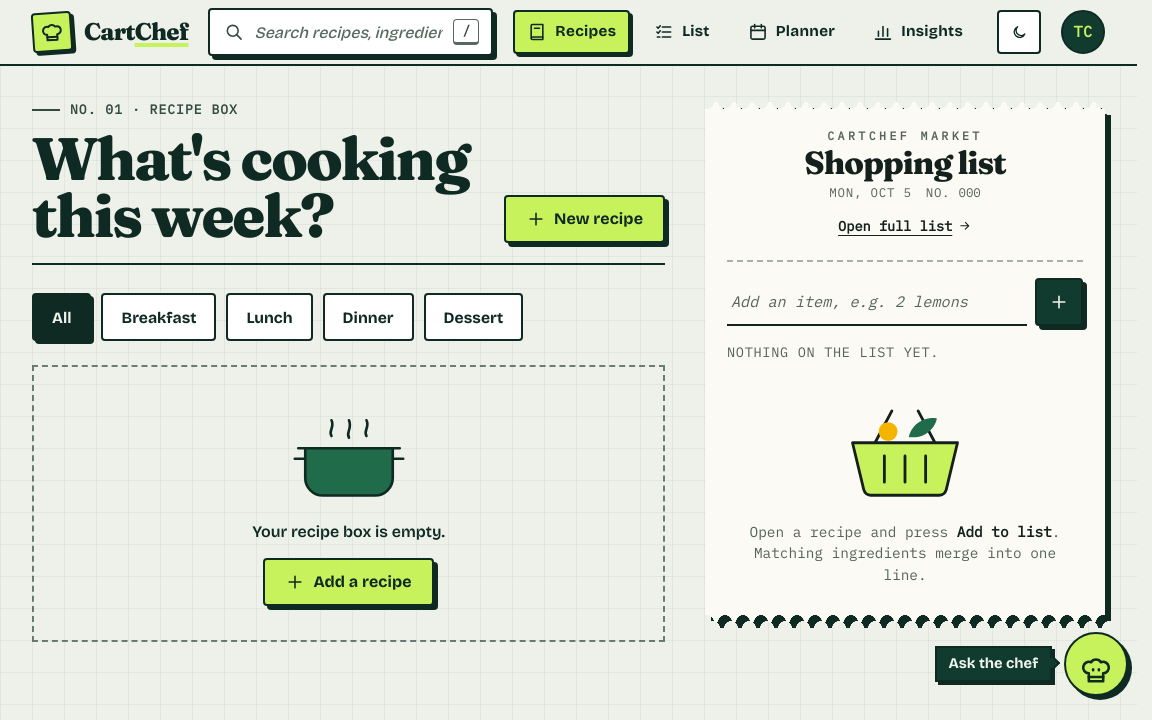
Scenario: signed-in session › deleting the account asks for the password and confirms
Click the button with aria-label "Account menu". click: [1083, 32]
box: [1061,10,1105,54]
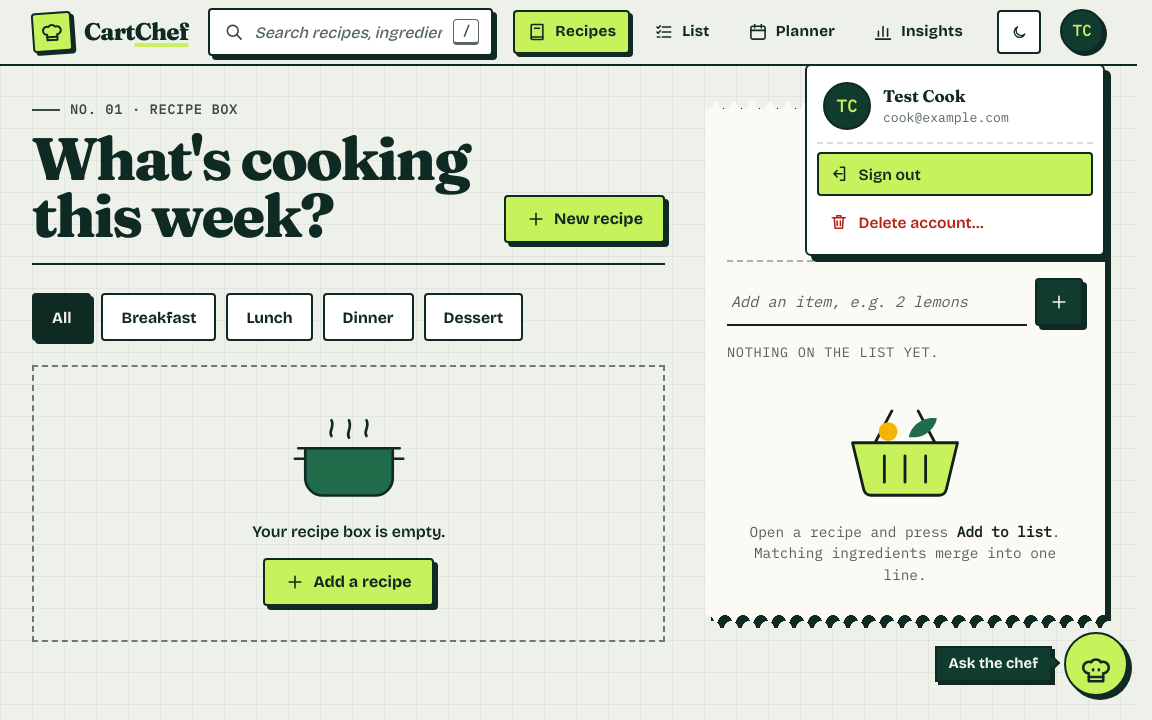
Click the menu item "Delete account…". click: [955, 222]
box: [817,200,1093,244]
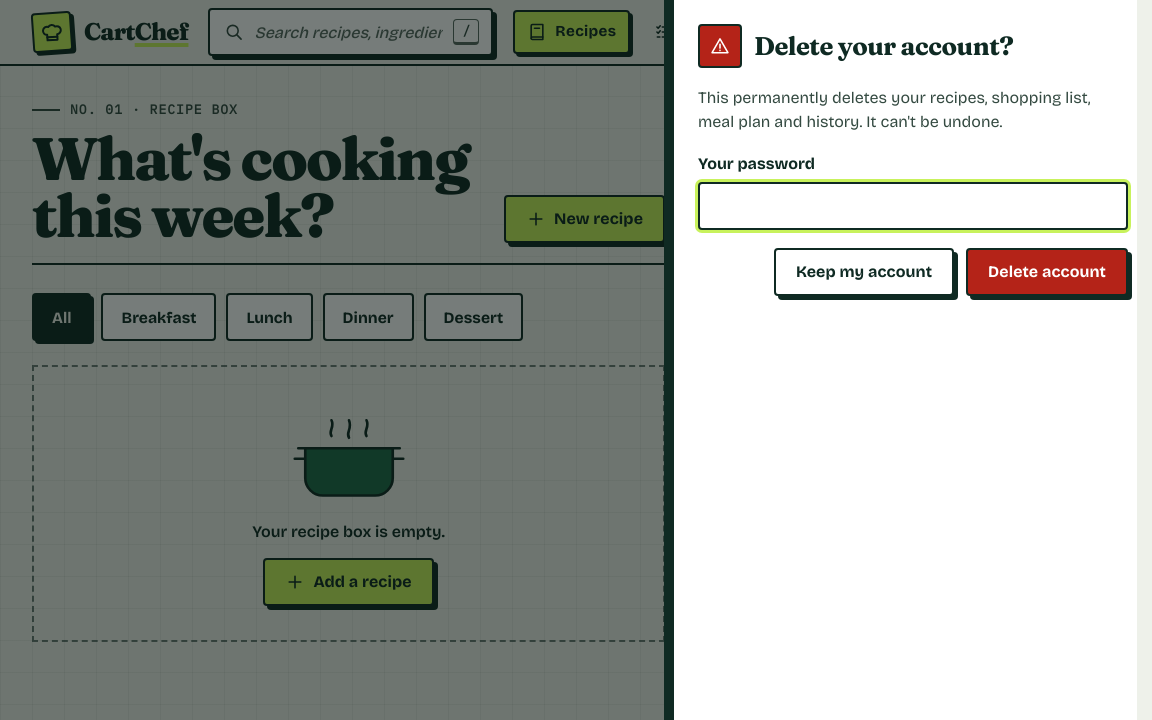
expect the dialog "Delete your account?" shows "can't be undone": met, box [698,88,1090,131]
Click the button "Delete account". click: [1047, 272]
box: [966,248,1128,296]
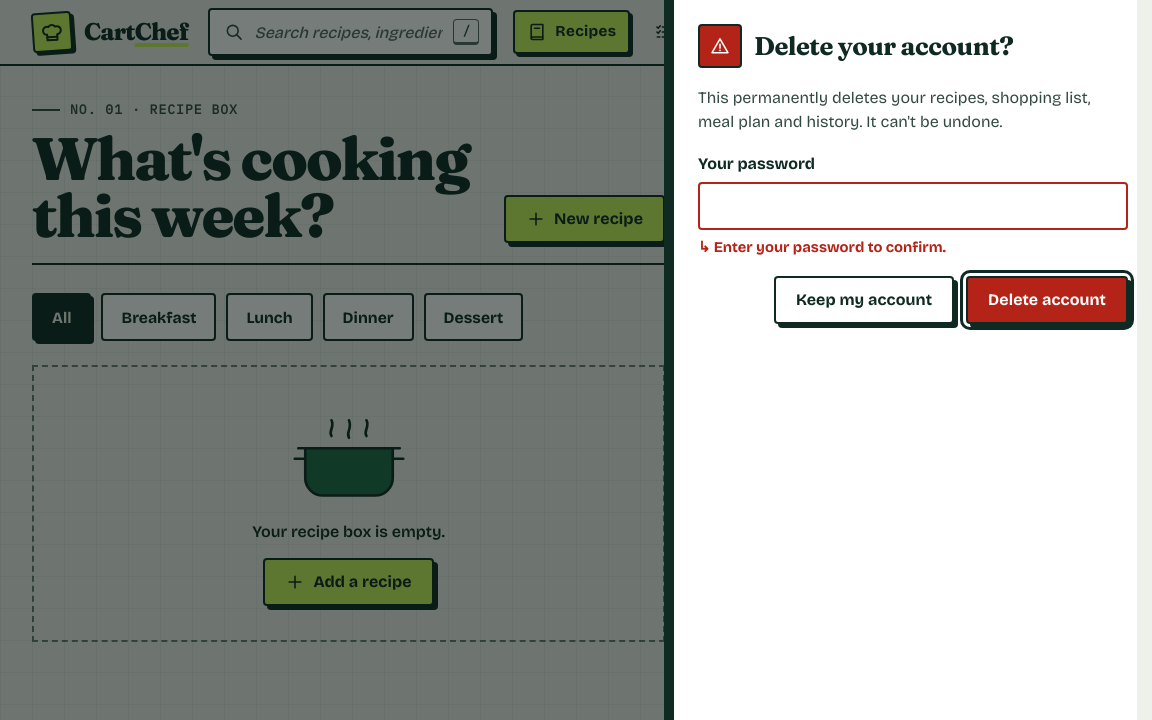
expect the text "Enter your password to confirm." is shown: met, box [714,238,946,256]
Type "wrong one" into the password field labelled "Your password". click: [913, 206]
box: [698,182,1128,230]
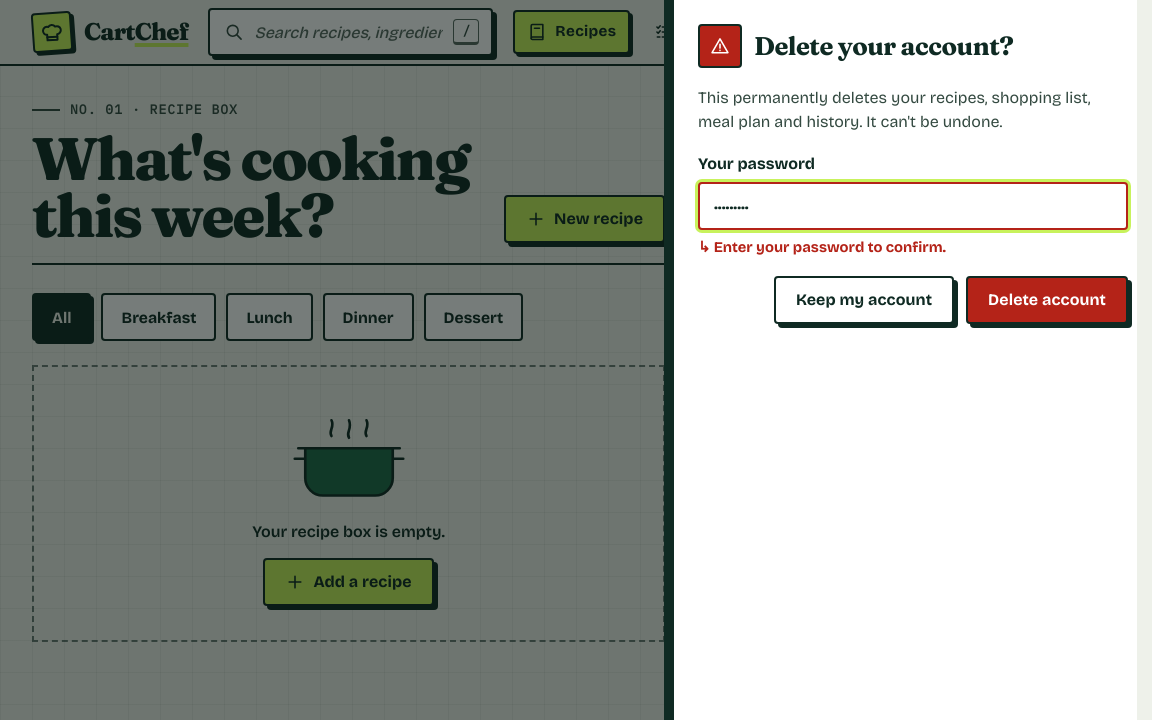
Click the button "Delete account". click: [1047, 300]
box: [966,276,1128,324]
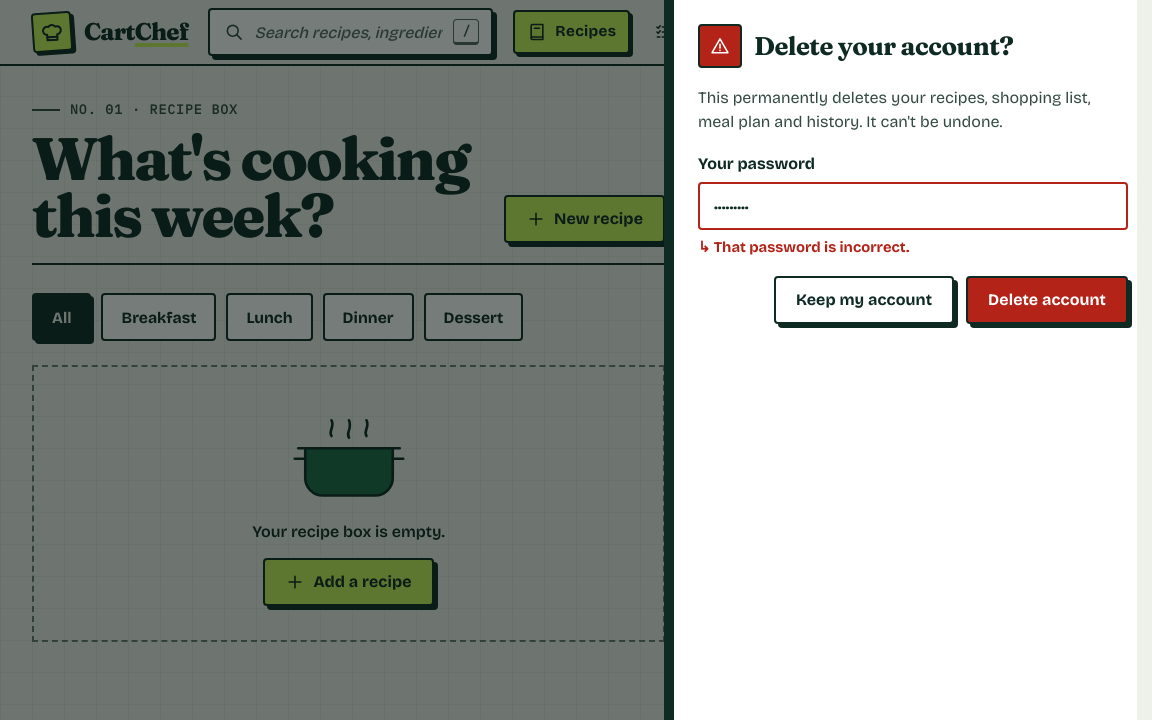
expect the text "That password is incorrect." is shown: met, box [714,238,909,256]
Type "correct horse battery" into the password field labelled "Your password". click: [913, 206]
box: [698,182,1128,230]
Click the button "Delete account". click: [1047, 300]
box: [966,276,1128,324]
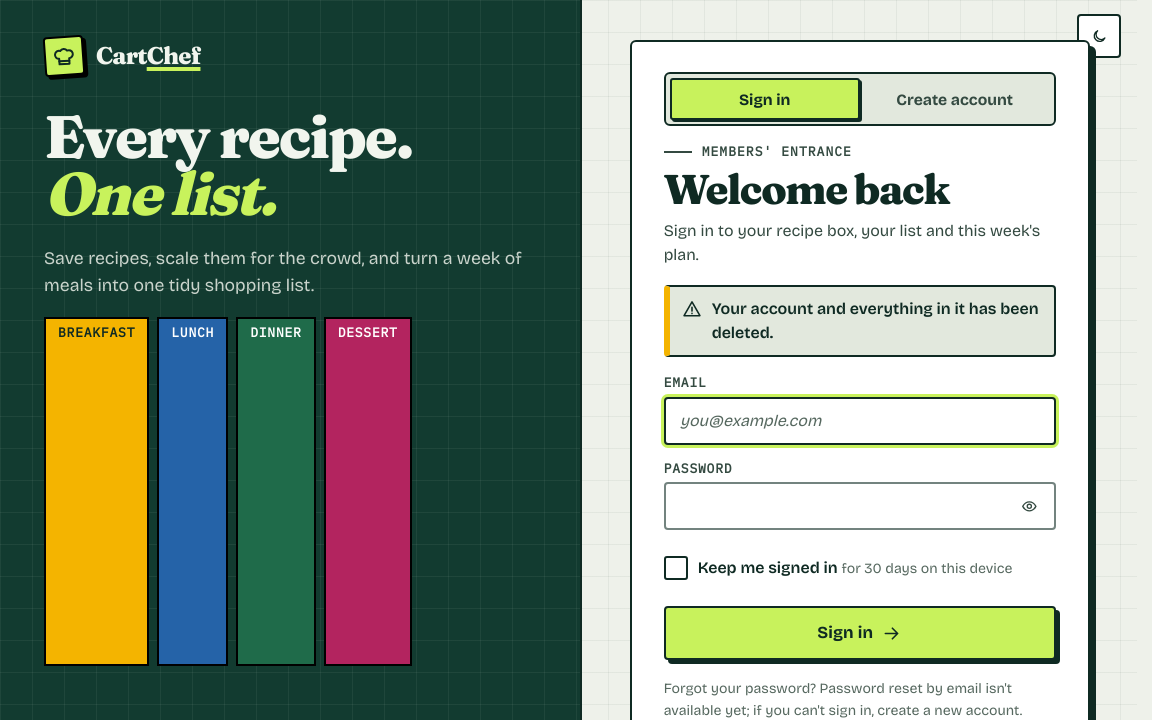
expect the text "Your account and everything in it has been deleted." is shown: met, box [664,285,1056,357]
